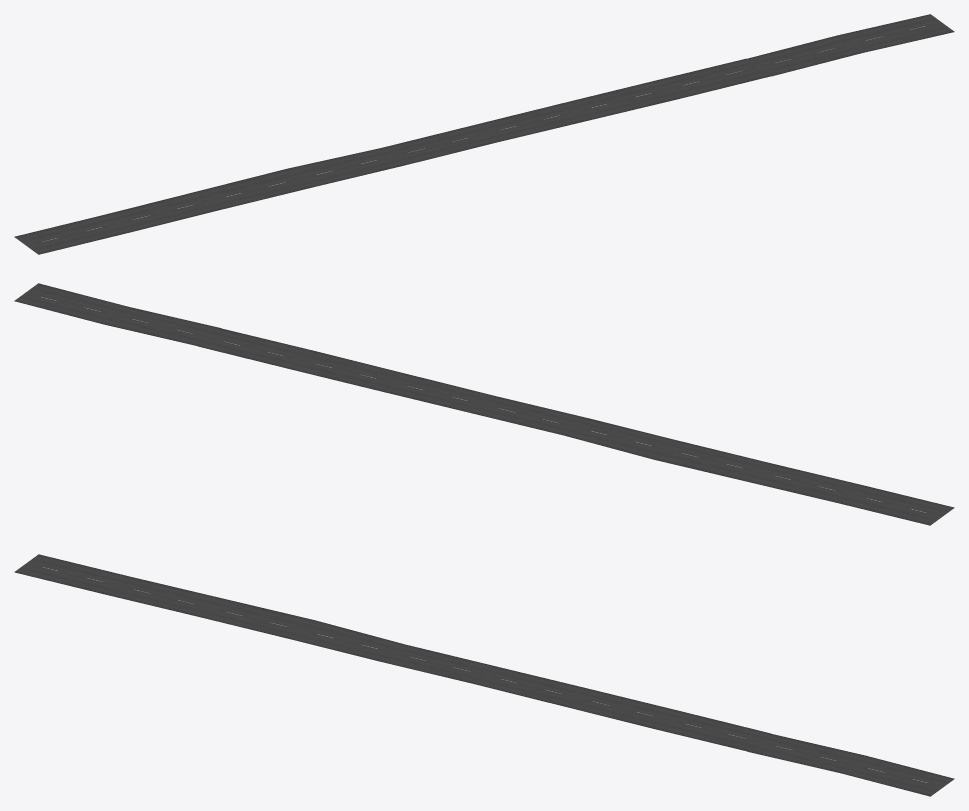
File: Road Piece.fbx
3 views of the same model, one above another, from view 1: azimuth 30°, elevation 25°; view 2: azimuth 150°, elevation 25°; view 3: azimuth 330°, elevation 25° (orthographic).
Visible parts, largest first — view 1: polySurface450; view 2: polySurface450; view 3: polySurface450.
Boxes of the visible parts, left/top/right/bottom form: polySurface450: left=14, top=14, right=954, bottom=254; polySurface450: left=14, top=283, right=954, bottom=525; polySurface450: left=14, top=554, right=954, bottom=796.
Size of the model in its own units: 168 by 0 by 8.56.
1 material, 1 textured.
